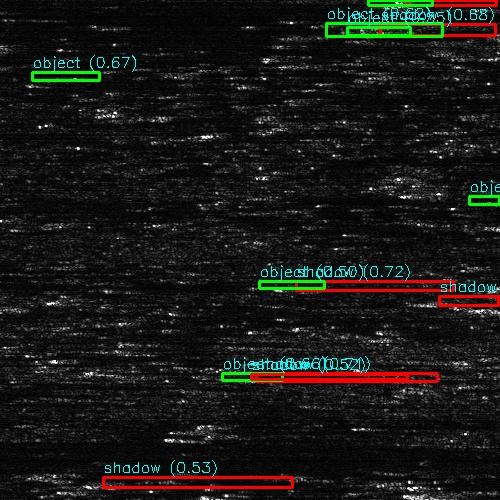rock: (118, 423, 263, 432), (207, 127, 270, 138), (197, 373, 270, 382), (0, 4, 25, 21), (0, 306, 9, 317)
shadow: (0, 444, 394, 467), (191, 423, 429, 432), (234, 373, 472, 382), (0, 281, 189, 290), (0, 306, 116, 317), (0, 4, 64, 21), (239, 127, 327, 138), (0, 387, 57, 398)
